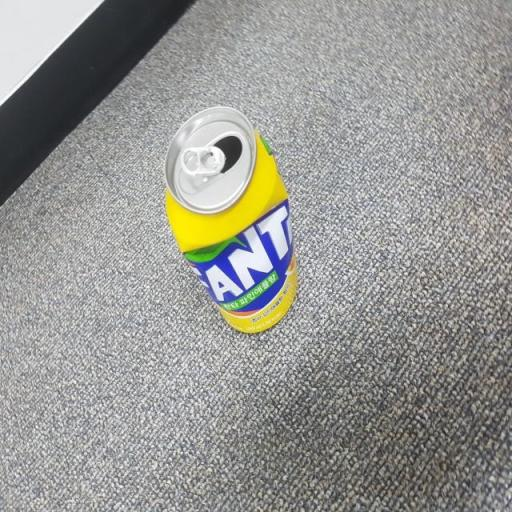metal: (145, 96, 306, 340)
